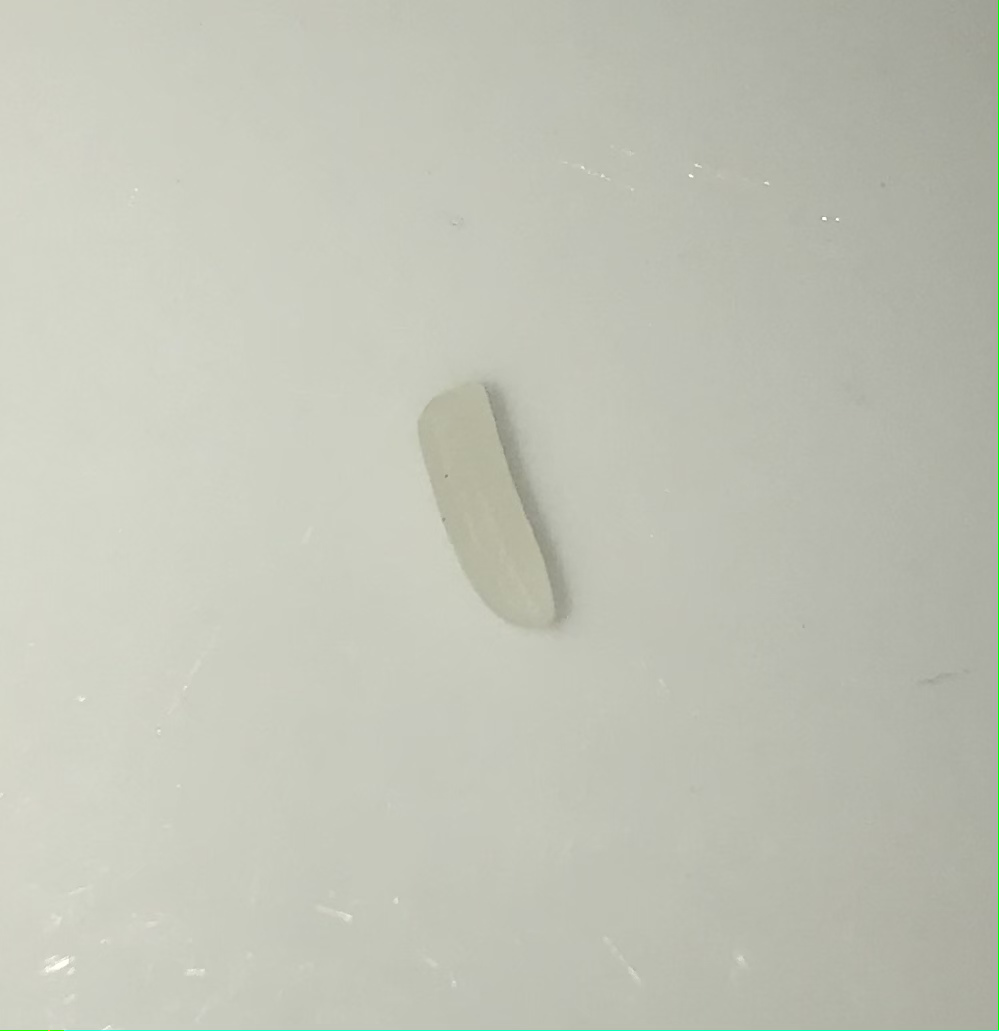Gao Thom Go Cong: (405, 358, 575, 640)
